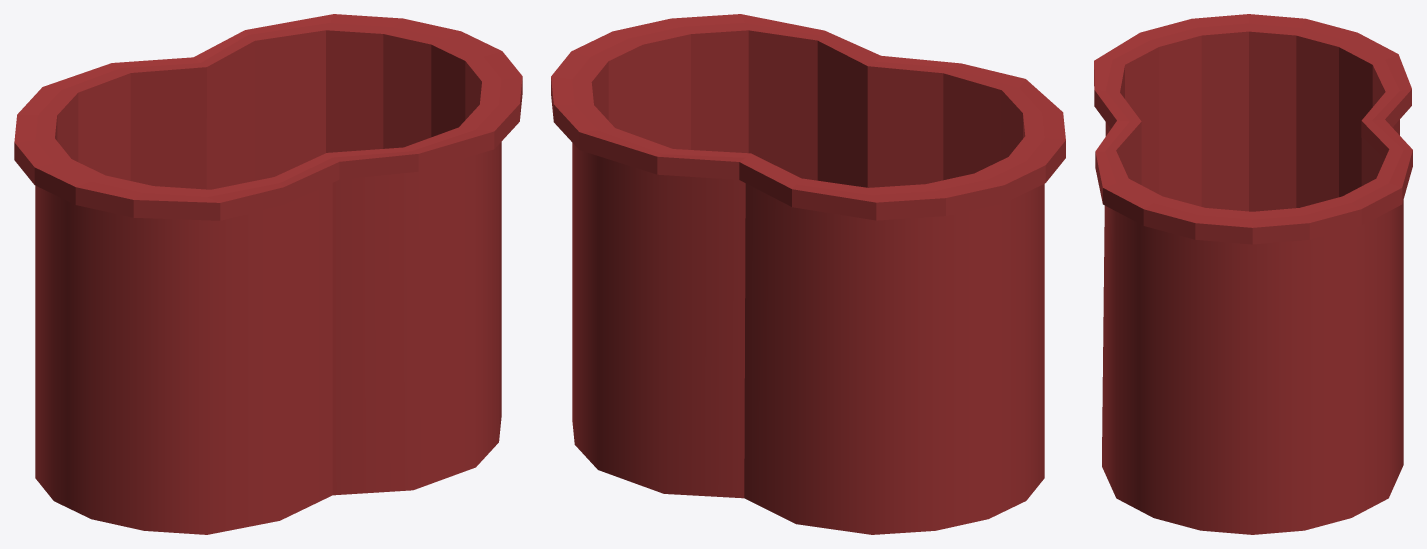
File: Mop bucket model.fbx
The picture shows the model from 3 angles, left to right: view 1: azimuth 30°, elevation 25°; view 2: azimuth 150°, elevation 25°; view 3: azimuth 270°, elevation 25°; orthographic projection. The views are drawn at different scales.
Parts seen in each view (by area): view 1: pCylinderShape2; view 2: pCylinderShape2; view 3: pCylinderShape2.
Part boxes in pixels (x1,y1,x2,y2): pCylinderShape2: (14,14,522,534); pCylinderShape2: (551,14,1065,534); pCylinderShape2: (1094,14,1412,534).
Bounding box in the file's own units: 2.41 × 1.66 × 1.52.
